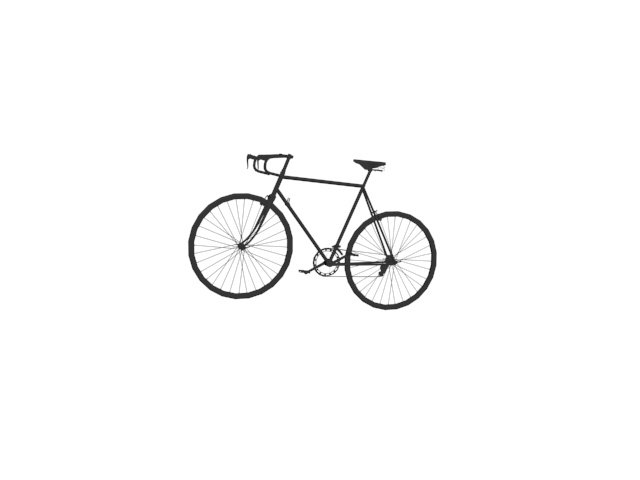bike: (185, 153, 440, 312)
